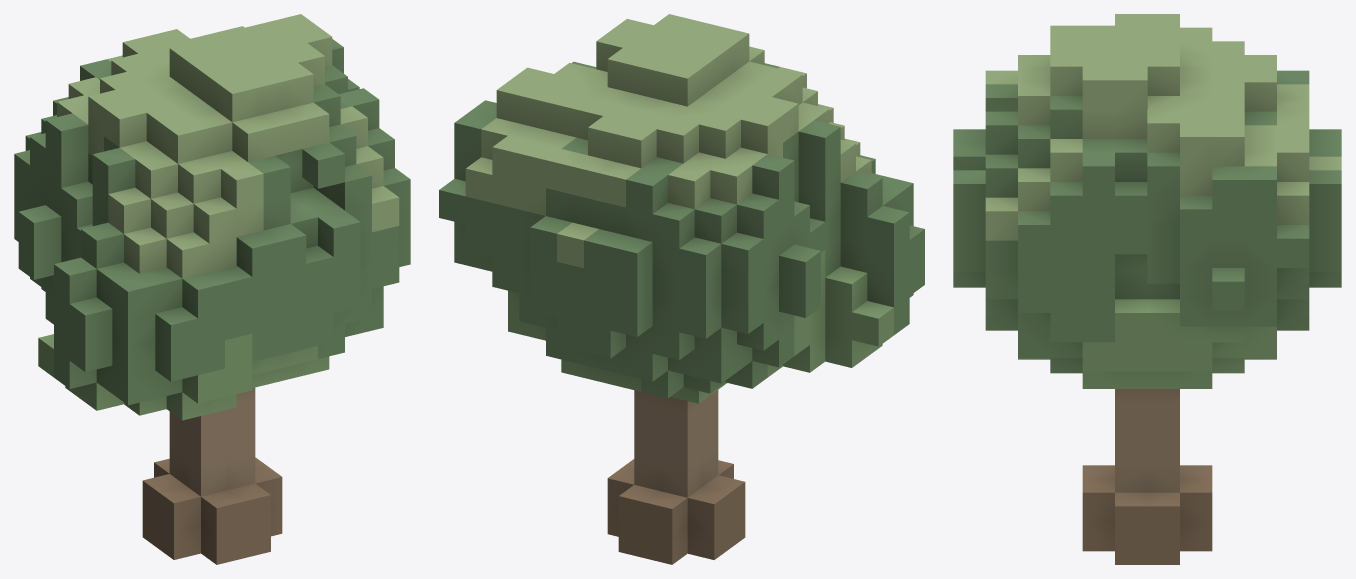
The model's file is arbre_0.glb.
3 views of the same model, side by side, from view 1: azimuth 30°, elevation 25°; view 2: azimuth 150°, elevation 25°; view 3: azimuth 270°, elevation 25° (orthographic). The views are drawn at different scales.
Parts seen in each view (by area): view 1: geometry_0; view 2: geometry_0; view 3: geometry_0.
Part boxes in pixels (box(x1,y1,x2,y2)): geometry_0: box(14, 14, 410, 564); geometry_0: box(439, 14, 924, 564); geometry_0: box(953, 14, 1341, 564).
Bounding box in the file's own units: 3.5 × 4.25 × 3.
